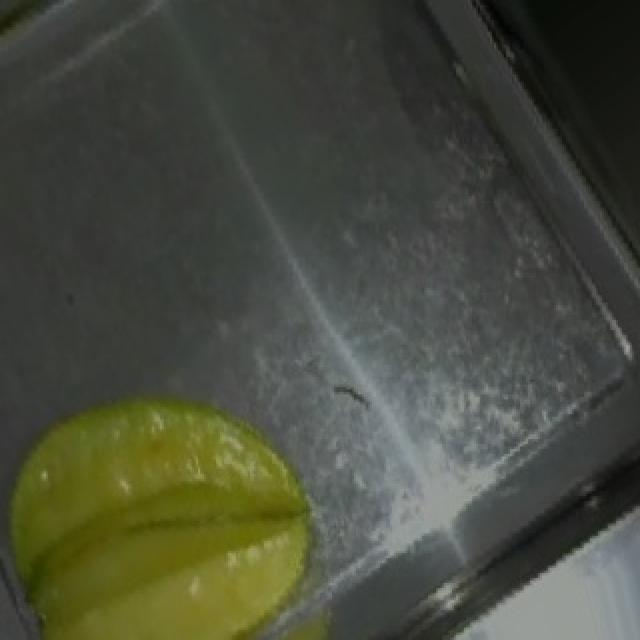fruit: (0, 354, 378, 640)
